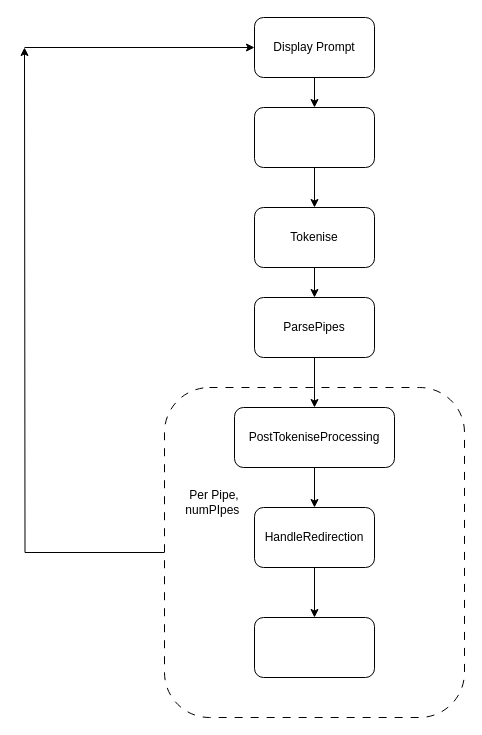
Image size: 482x735. Some labels were removed from this diagram. Each missing label, with the centre of its shape:
"Execute" belongs at point (314, 647).
"Get Input" belongs at point (314, 137).
